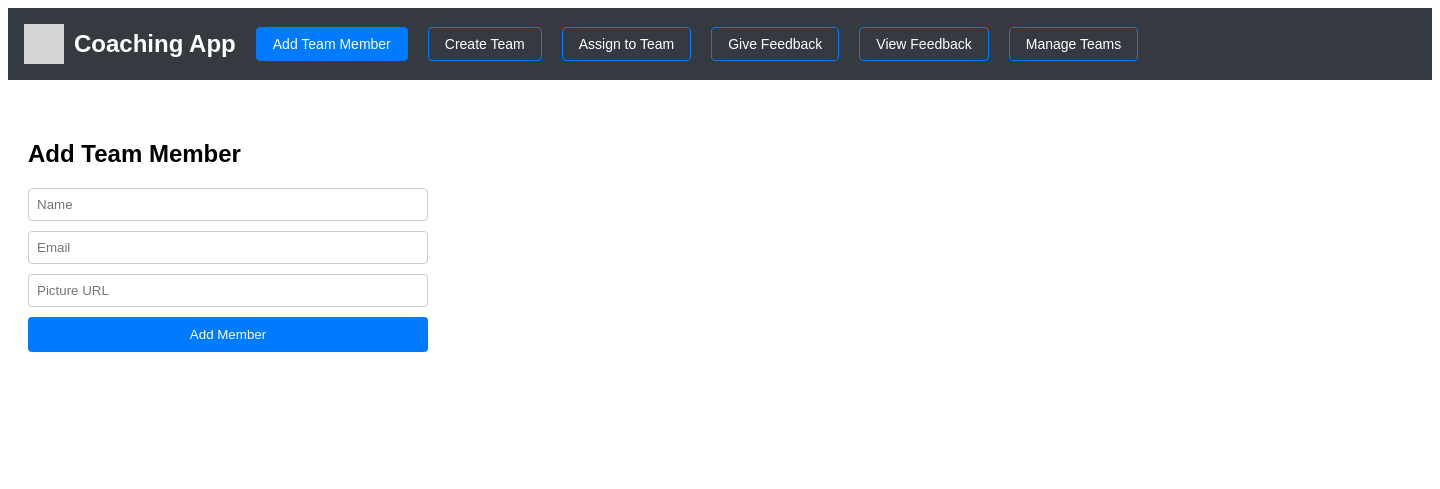
App › navigates to Give Feedback page
Click the button "Give Feedback": (775, 44) x1=711 y1=27 x2=839 y2=61
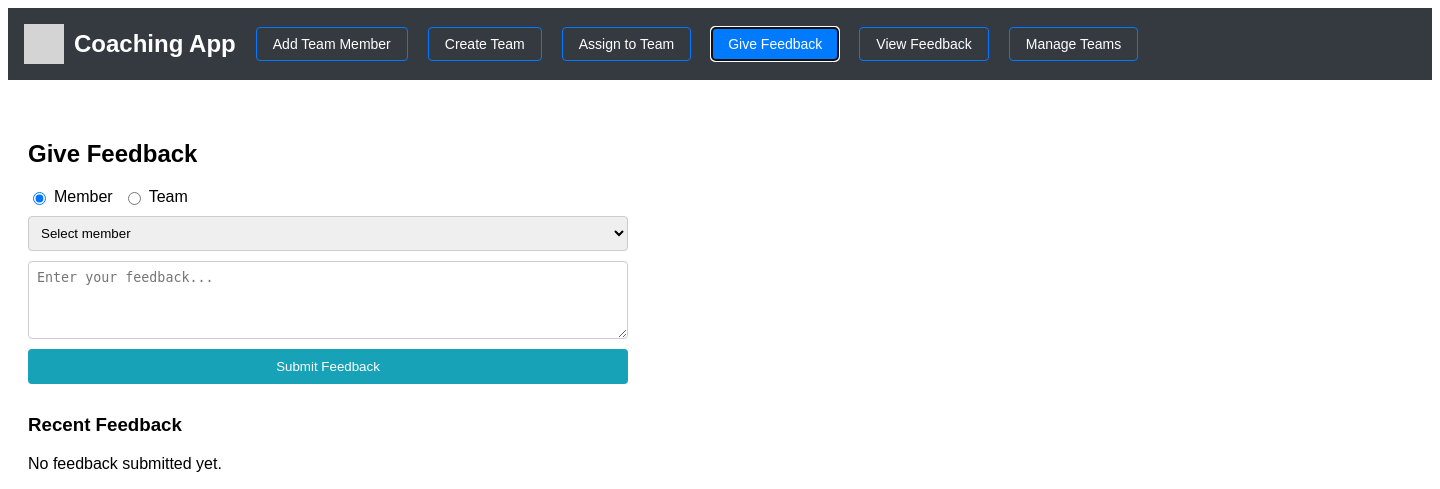
Expected: the heading "Give Feedback" is shown, x1=28 y1=140 x2=197 y2=167
Expected: the text box with placeholder "Enter your feedback..." is shown, x1=28 y1=261 x2=628 y2=339
